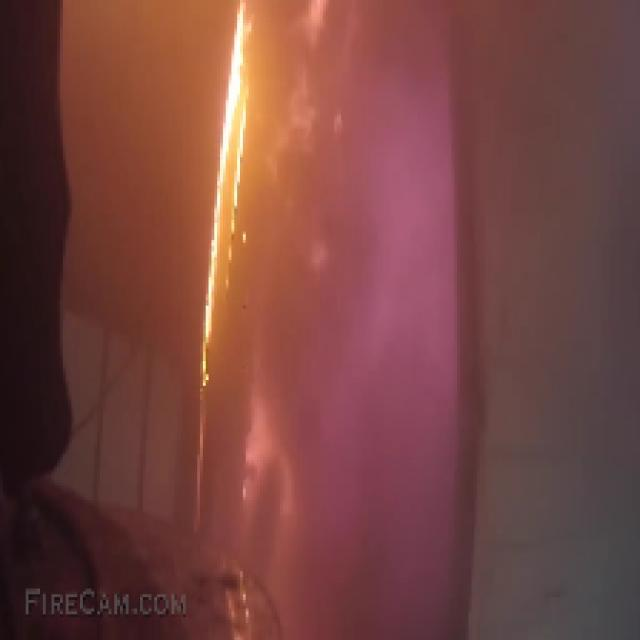Fire: (192, 3, 352, 640)
Smoke: (62, 3, 634, 640)
